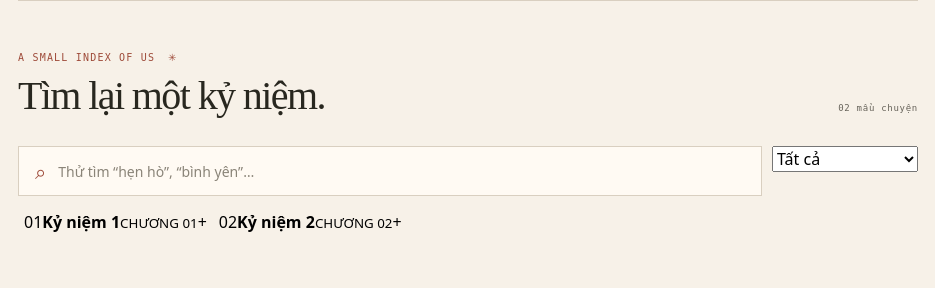
Test case: MemoryExplorer › expands and collapses a memory, exposing the state to assistive tech
This screenshot has width=935, height=288.
Click the button "01Kỷ niệm 1CHƯƠNG 01+" at (115, 222), box [18,210,213,234]
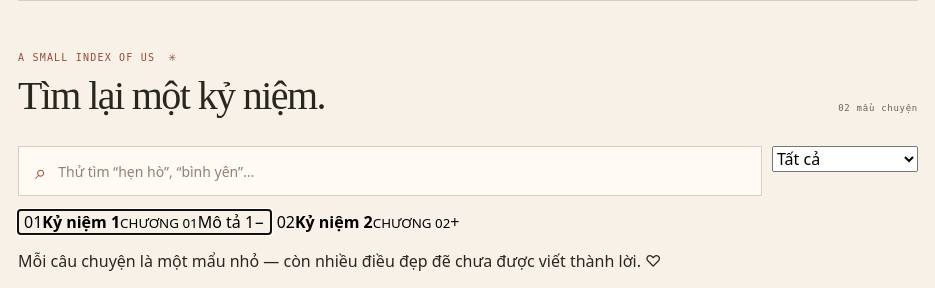
expect the button "01Kỷ niệm 1CHƯƠNG 01Mô tả 1−" is expanded: met
expect the text "Mô tả 1" is shown: met, box [198,211,254,233]
Click the button "01Kỷ niệm 1CHƯƠNG 01Mô tả 1−" at (144, 222), box [18,210,271,234]
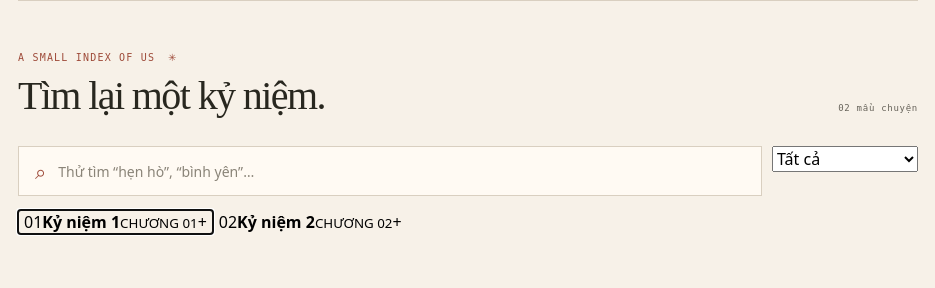
expect the text "Mô tả 1" is gone: met
